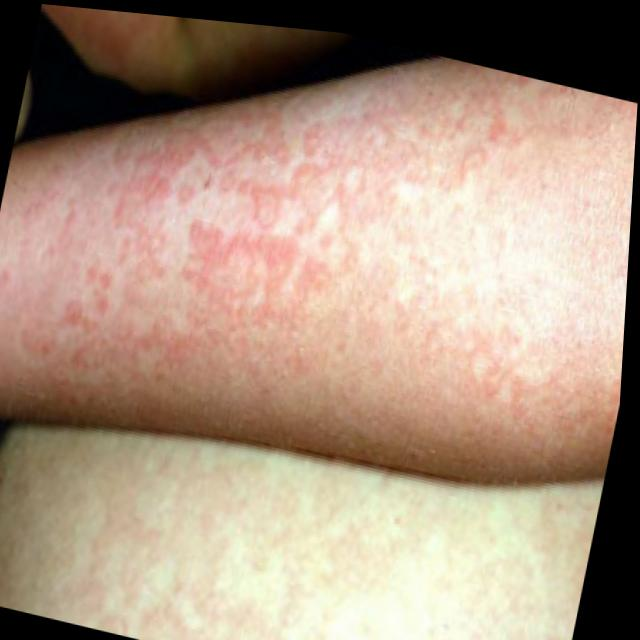Erythema infectiosum: (30, 120, 441, 441)
